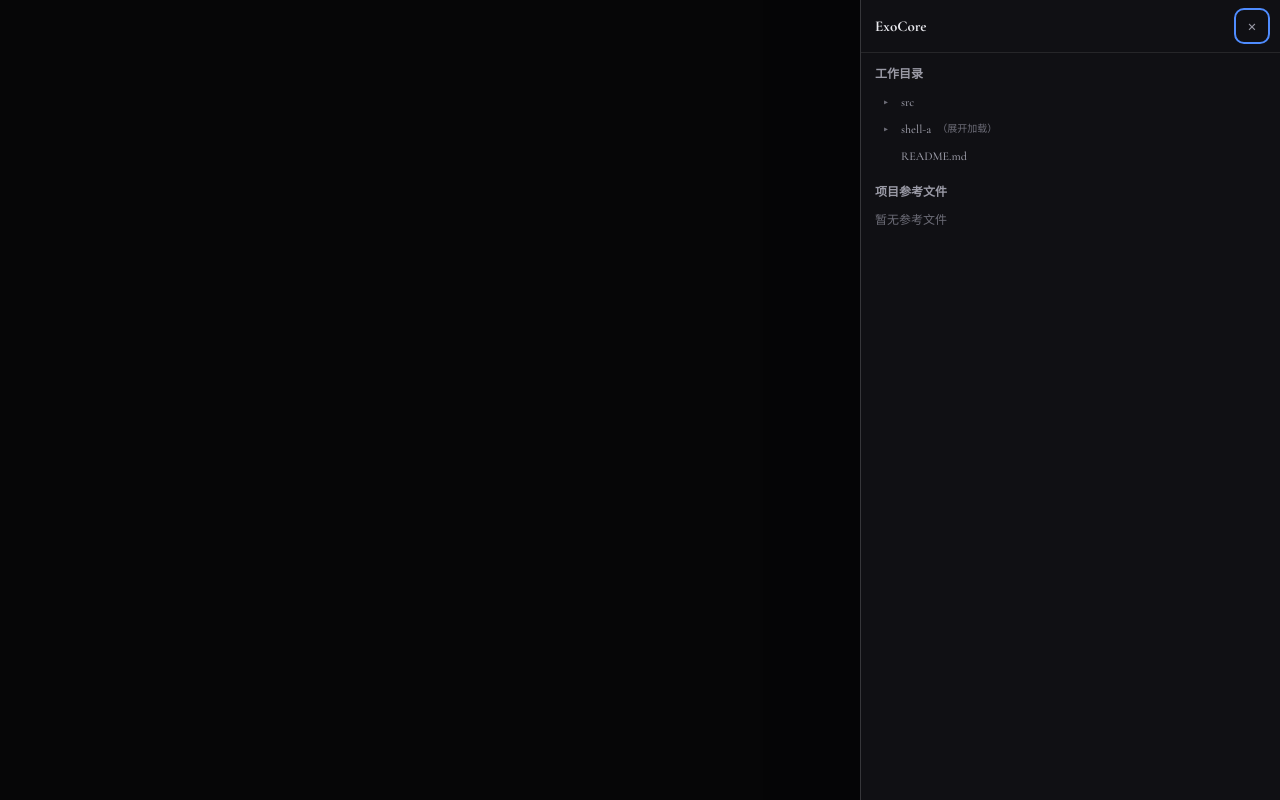
Test: P1D Project files drawer leaf › shows a visible level error with retry, then merges on success
Expected: the text "shell-a" is shown, [901,120,931,138]
Click the button "▸ shell-a （展开加载）" at (916,129), box [875,116,1266,142]
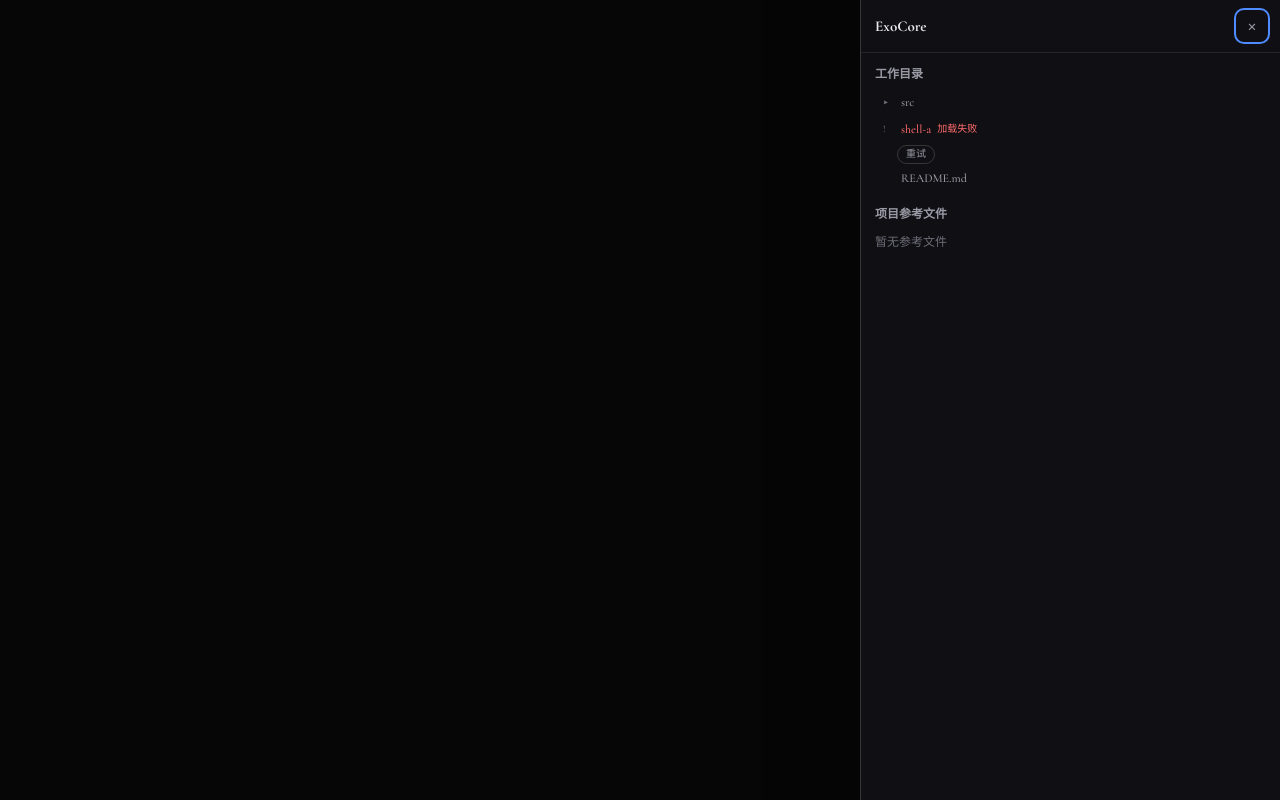
Expected: the text "加载失败" is shown, [937,122,977,136]
Click the button "重试" at (916,154), box [897,145,935,164]
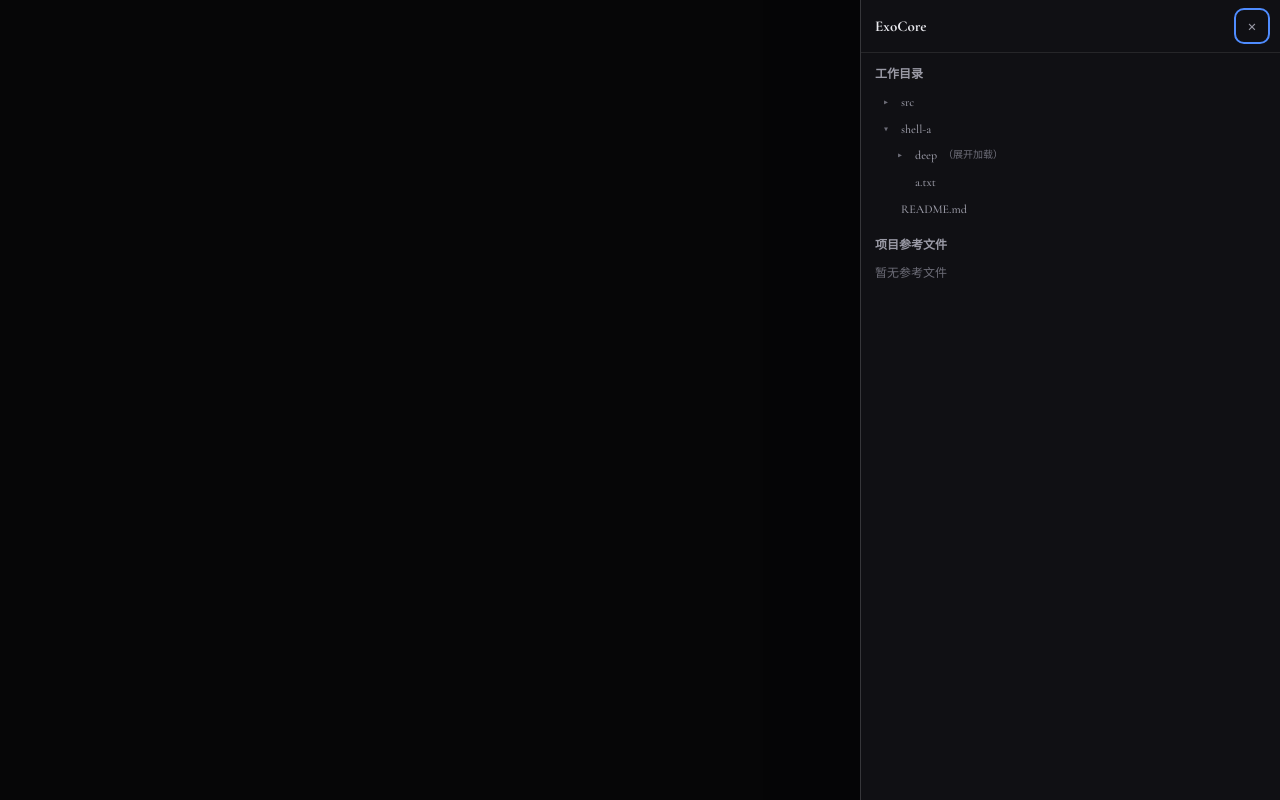
Expected: the text "a.txt" is shown, [915,173,936,191]
